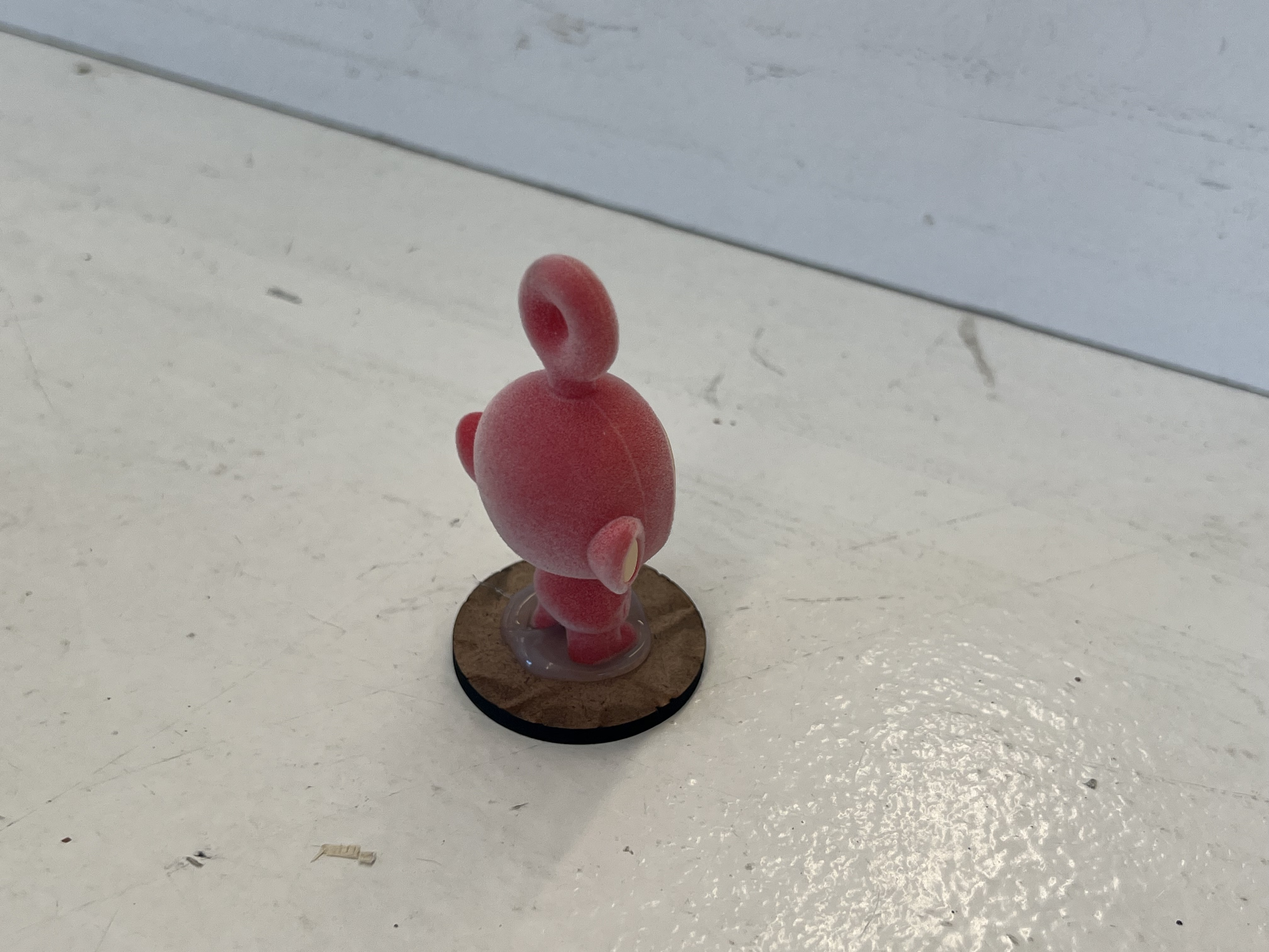teletubby: (457, 255, 675, 664)
